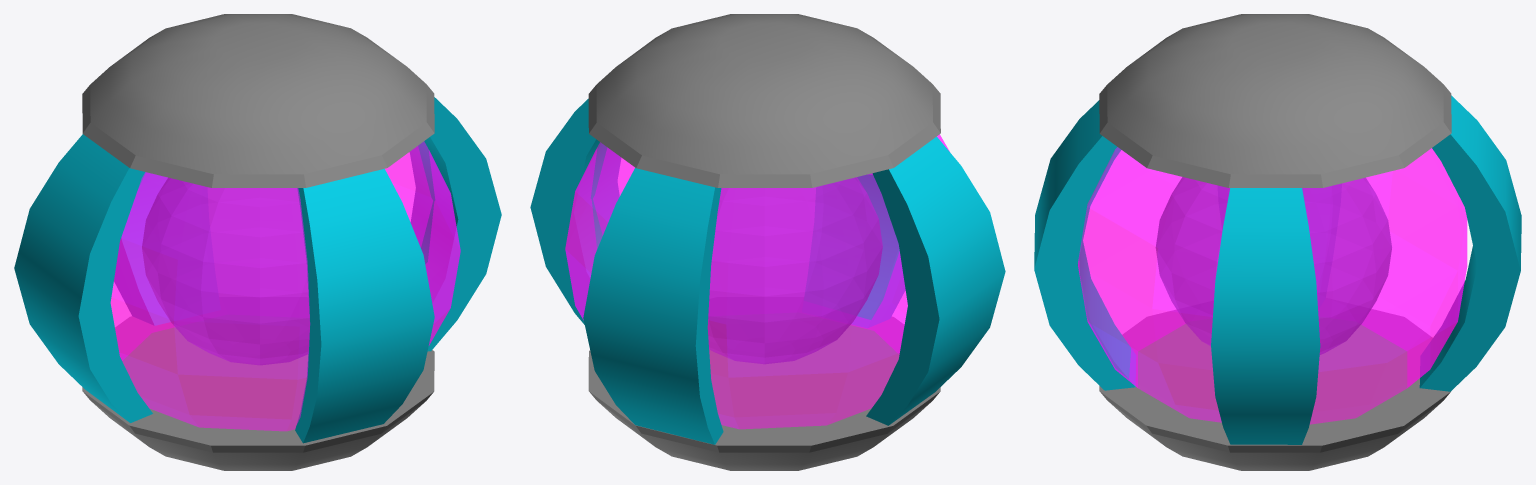
Rendered from model_powerUp.fbx.
3 renders of one model, left to right at view 1: azimuth 30°, elevation 25°; view 2: azimuth 150°, elevation 25°; view 3: azimuth 270°, elevation 25°, orthographic.
Visible parts, largest first — view 1: pCylinder4; view 2: pCylinder4; view 3: pCylinder4.
Part boxes in pixels (left/top/right/bottom): pCylinder4: left=14, top=14, right=501, bottom=470; pCylinder4: left=530, top=14, right=1005, bottom=470; pCylinder4: left=1034, top=14, right=1521, bottom=470.
Size of the model in its own units: 17.11 by 15.51 by 17.11.
